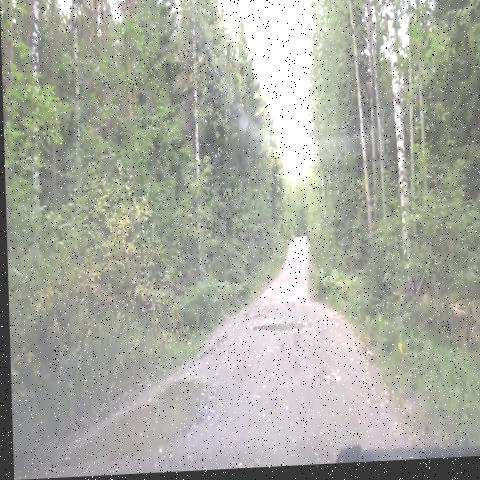pothole: (48, 360, 208, 478), (248, 314, 313, 349), (239, 308, 266, 327)
